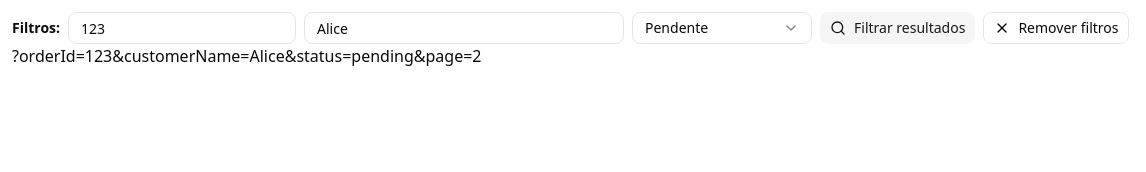
Test case: OrderTableFilters › should clear filters and URL when clicking Remove filters
This screenshot has width=1146, height=172.
Expected: the 1st field with placeholder "ID do pedido" holds "123", x1=68 y1=12 x2=296 y2=44
Expected: the 2nd field with placeholder "Nome do cliente" holds "Alice", x1=304 y1=12 x2=624 y2=44
Step 1. Click the button "Remover filtros" → (1056, 28), box x1=983 y1=12 x2=1130 y2=44
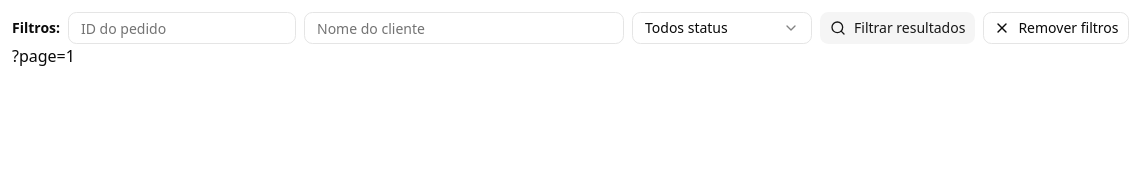
Result: the field with placeholder "ID do pedido" is empty at x1=68 y1=12 x2=296 y2=44
Result: the field with placeholder "Nome do cliente" is empty at x1=304 y1=12 x2=624 y2=44
Result: the text with test id "location" reads "?page=1" at x1=12 y1=45 x2=75 y2=67
